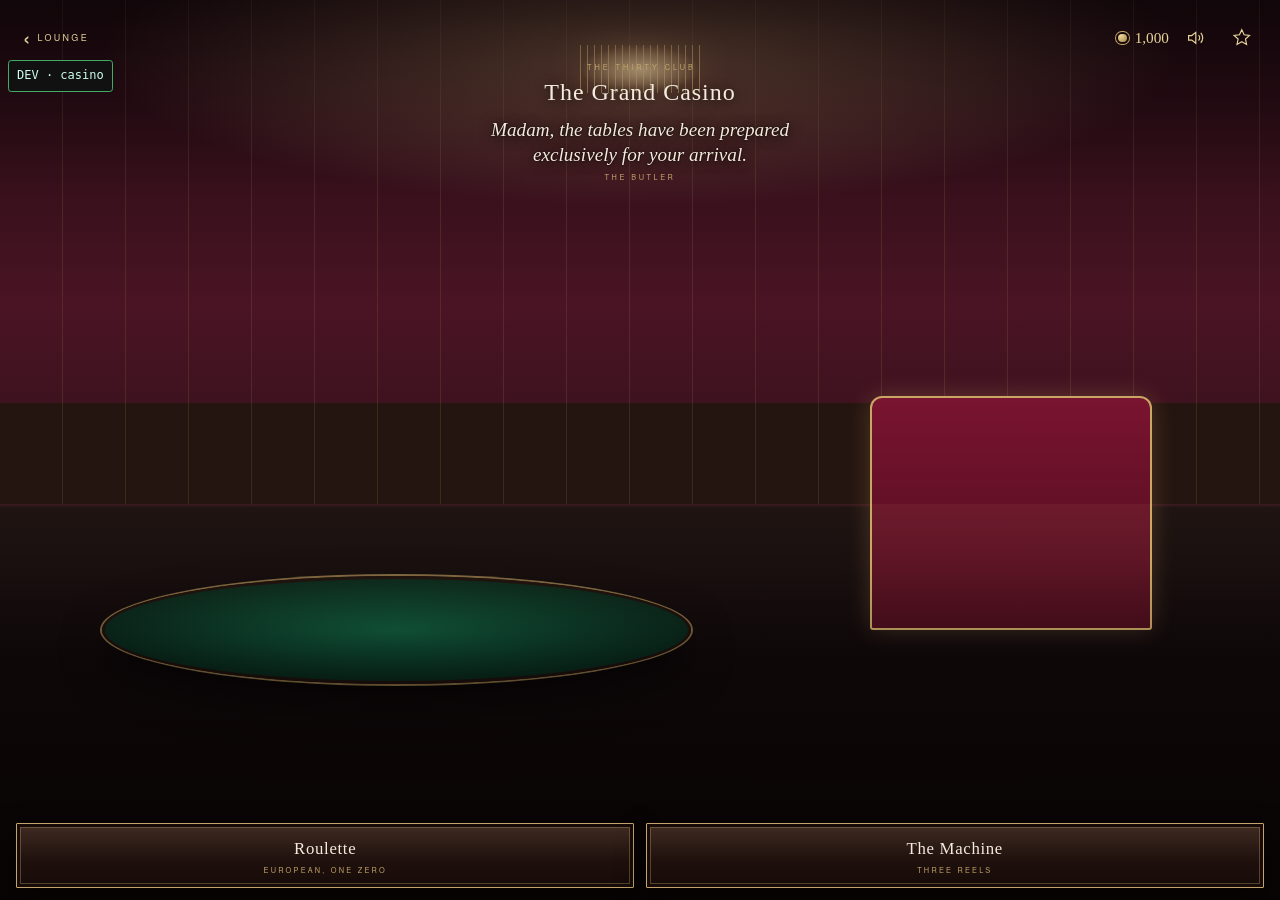
Test: roulette › needs a chip before it will spin
Click the button "Roulette European, one zero". click: x=325, y=856
box: [16, 823, 634, 888]
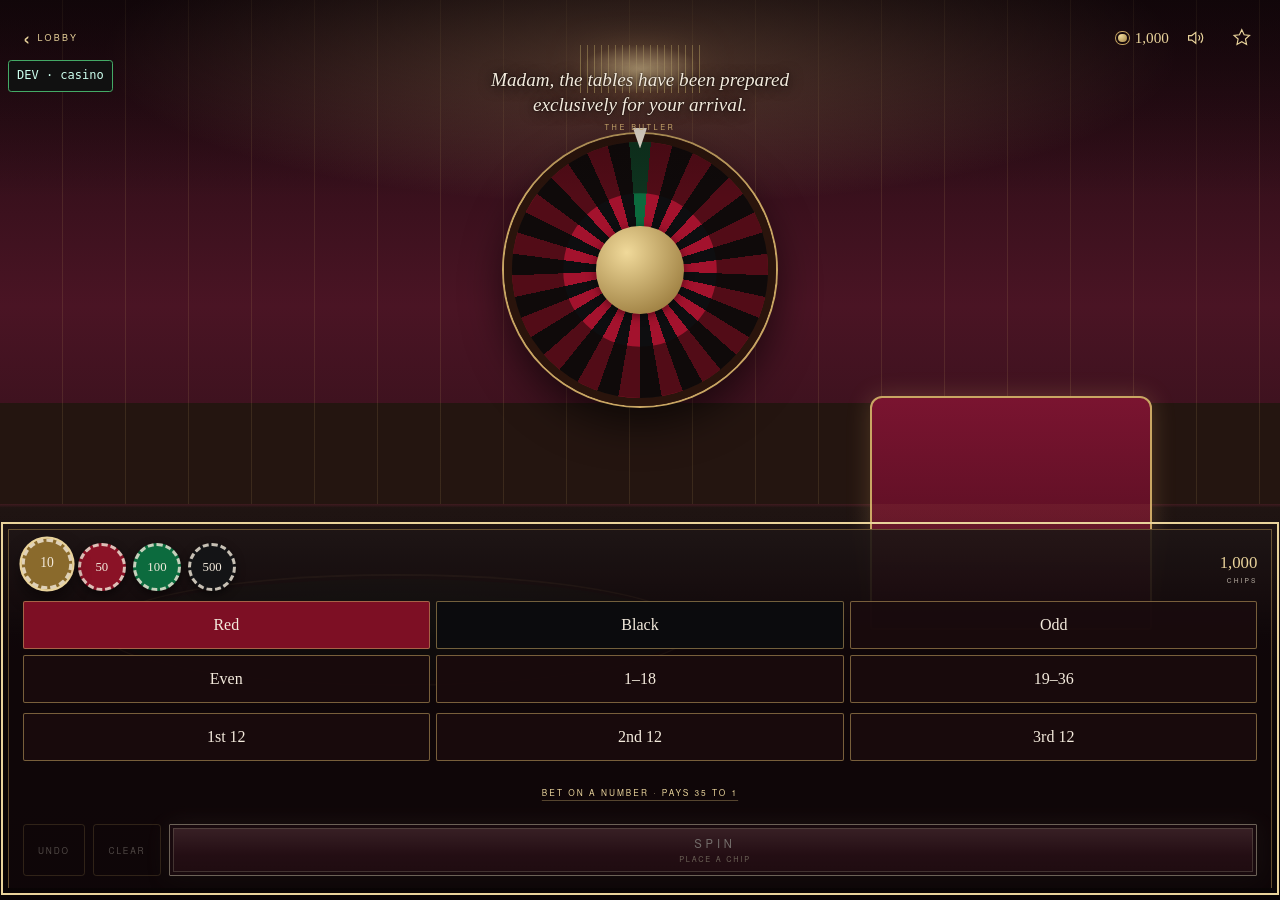
Expected: the button "Spin place a chip" is disabled, [169, 824, 1257, 876]
Click the button "Red". click: x=226, y=625
box: [23, 601, 430, 649]
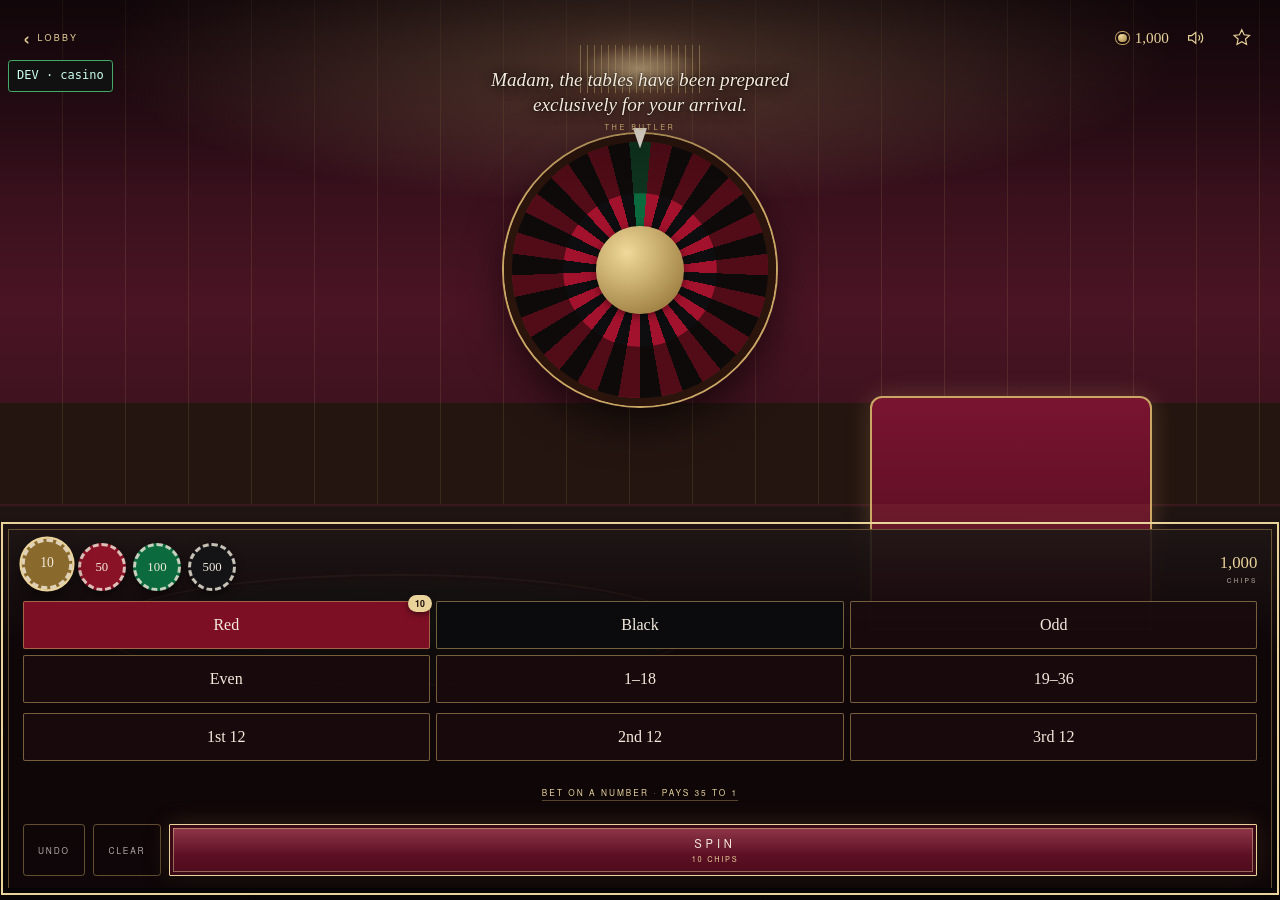
Expected: the button with aria-label "Red, 10 chips placed" is shown, [23, 601, 430, 649]
Expected: the button "Spin 10 chips" is enabled, [169, 824, 1257, 876]
